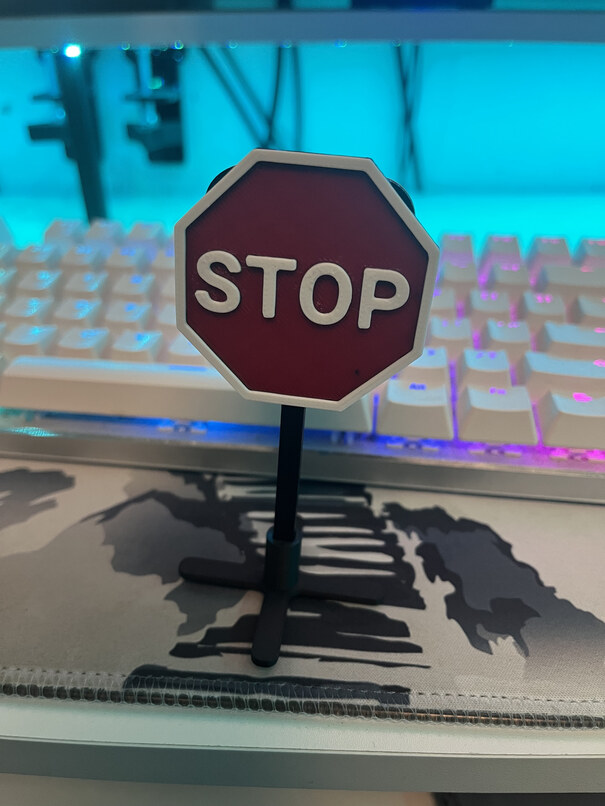sign_stop: (169, 148, 432, 416)
